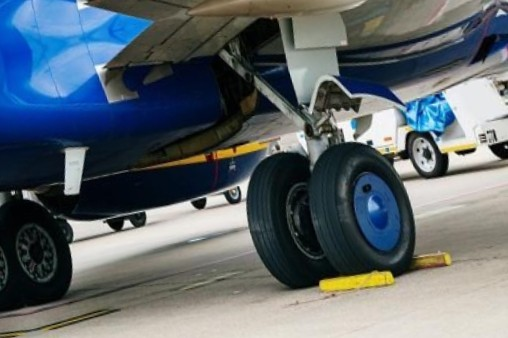chock: (312, 263, 398, 302), (379, 244, 457, 280)
wheel: (291, 128, 433, 290), (228, 144, 350, 296), (0, 191, 86, 309), (0, 205, 27, 320), (402, 126, 455, 183), (56, 216, 77, 245), (432, 150, 455, 175), (488, 134, 508, 161), (223, 186, 245, 204), (128, 211, 149, 228), (106, 216, 127, 232), (455, 145, 479, 157), (190, 196, 209, 210), (396, 148, 411, 160)
